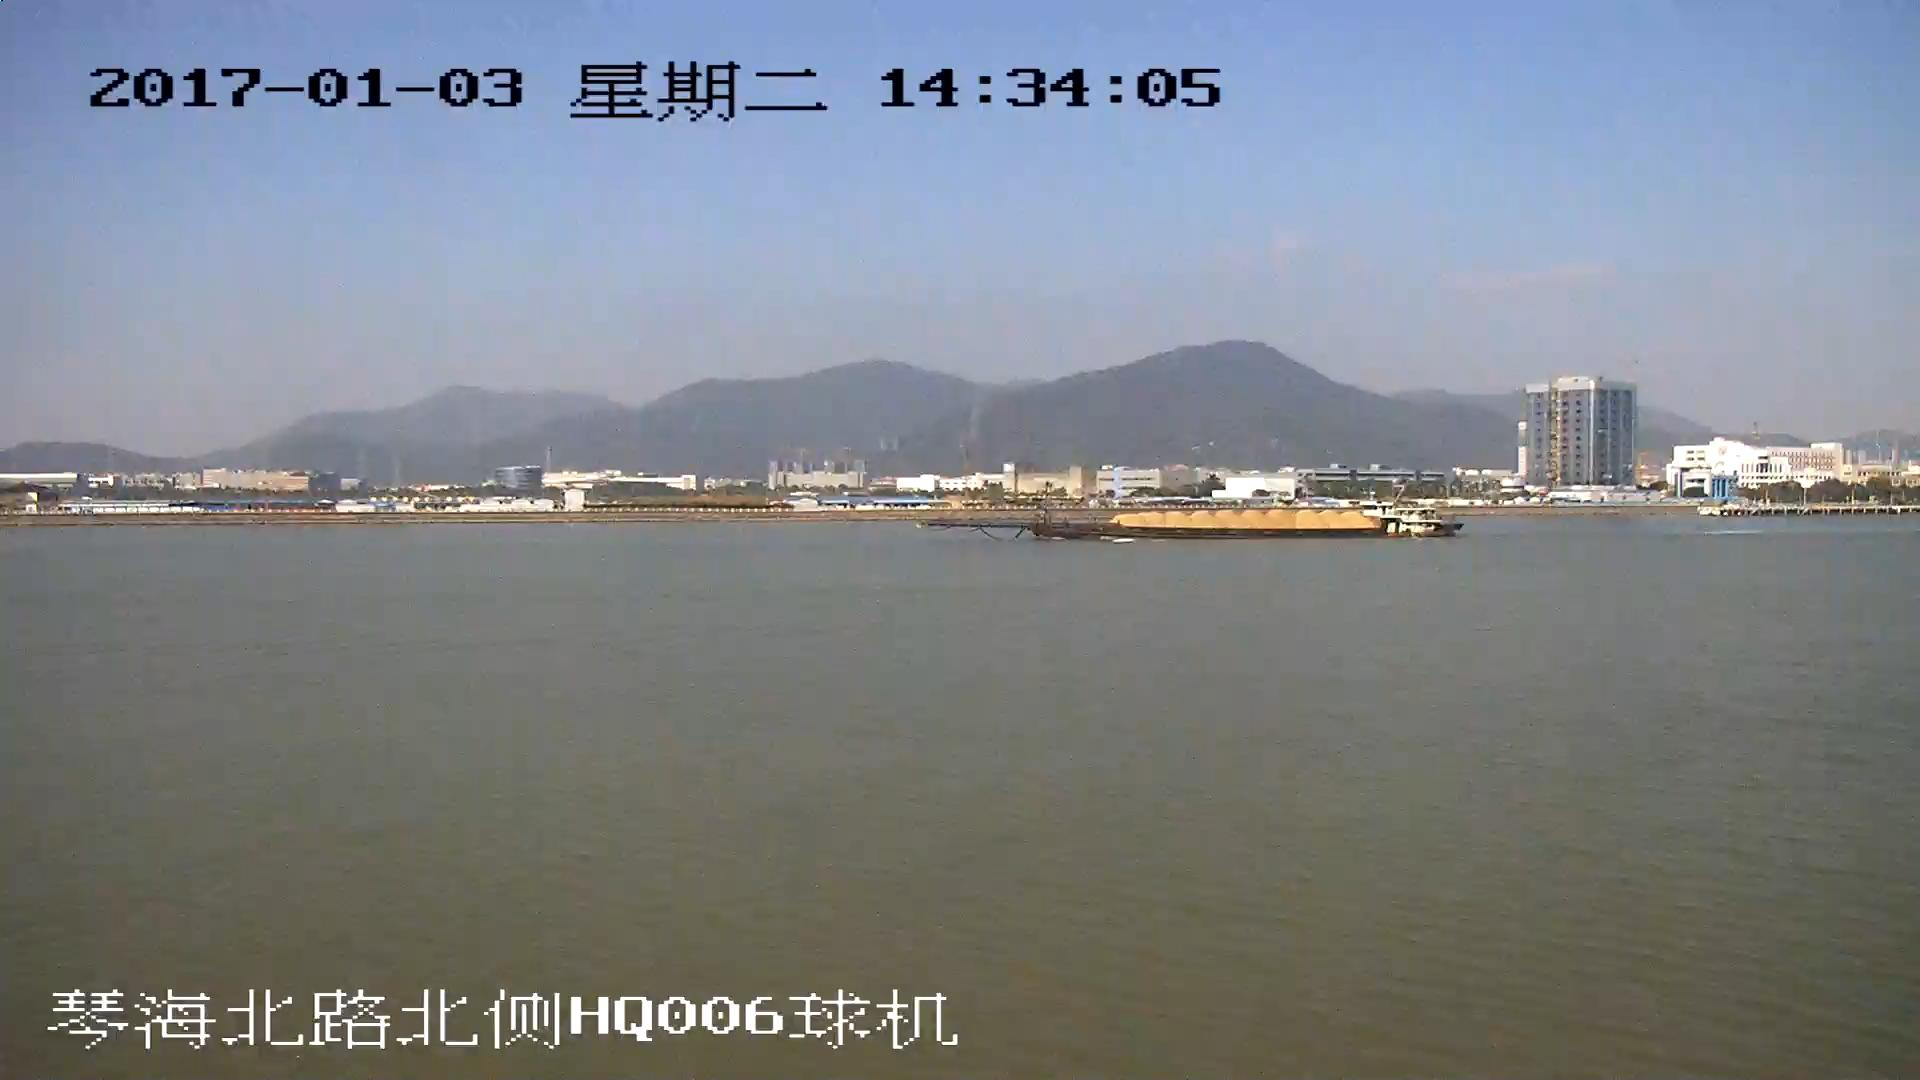ore carrier: (917, 489, 1462, 541)
